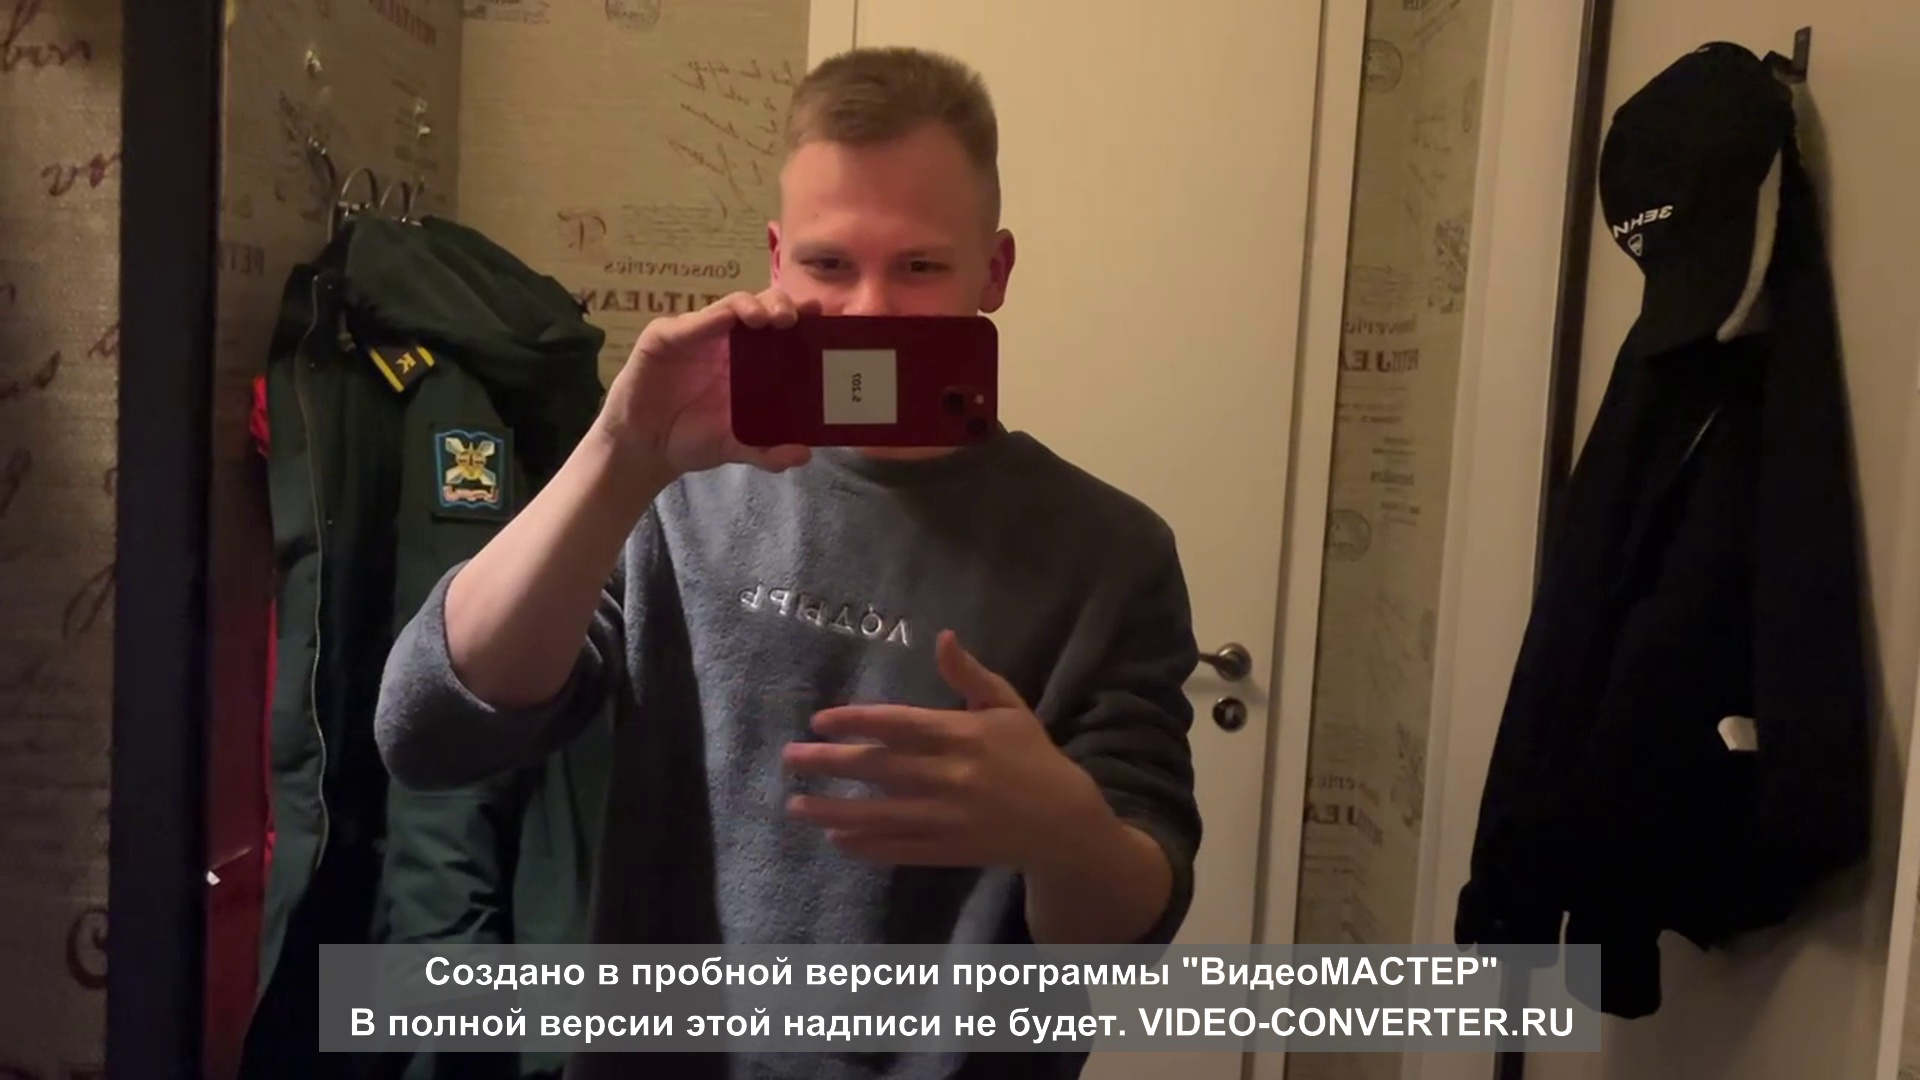Кисть: (783, 630, 1085, 872)
